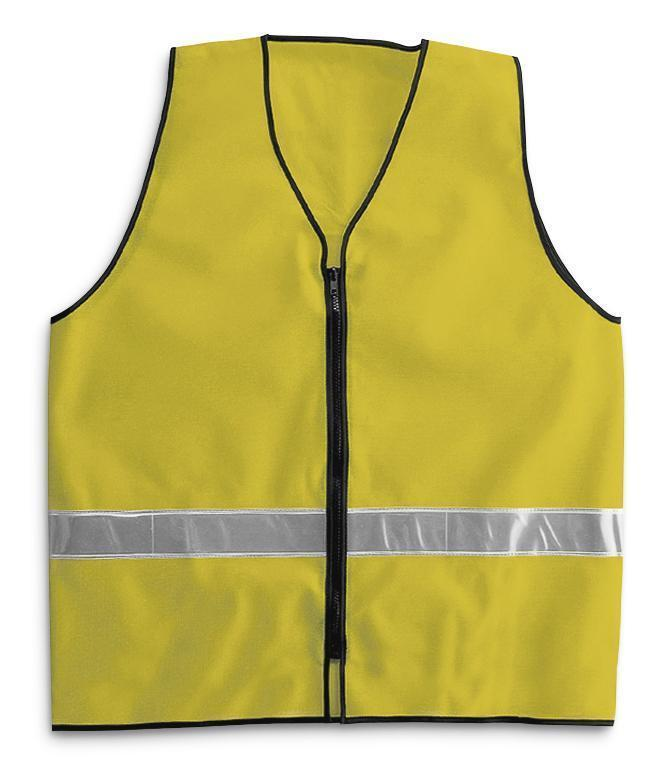vest: (43, 22, 627, 734)
